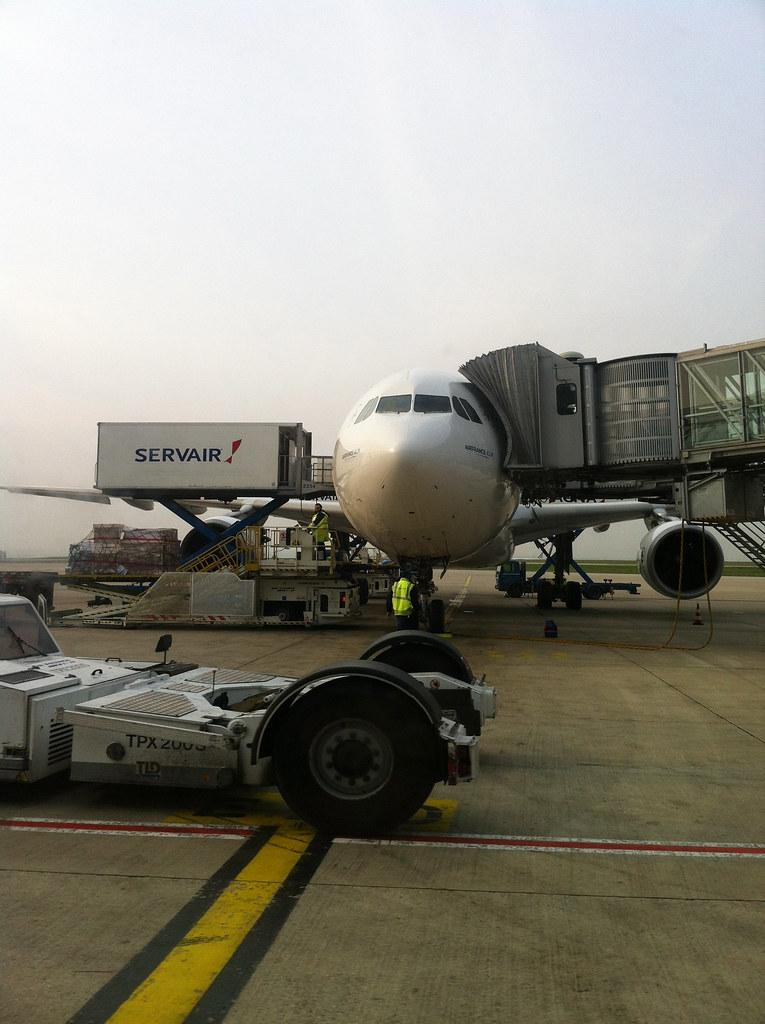plane: (2, 353, 763, 632)
